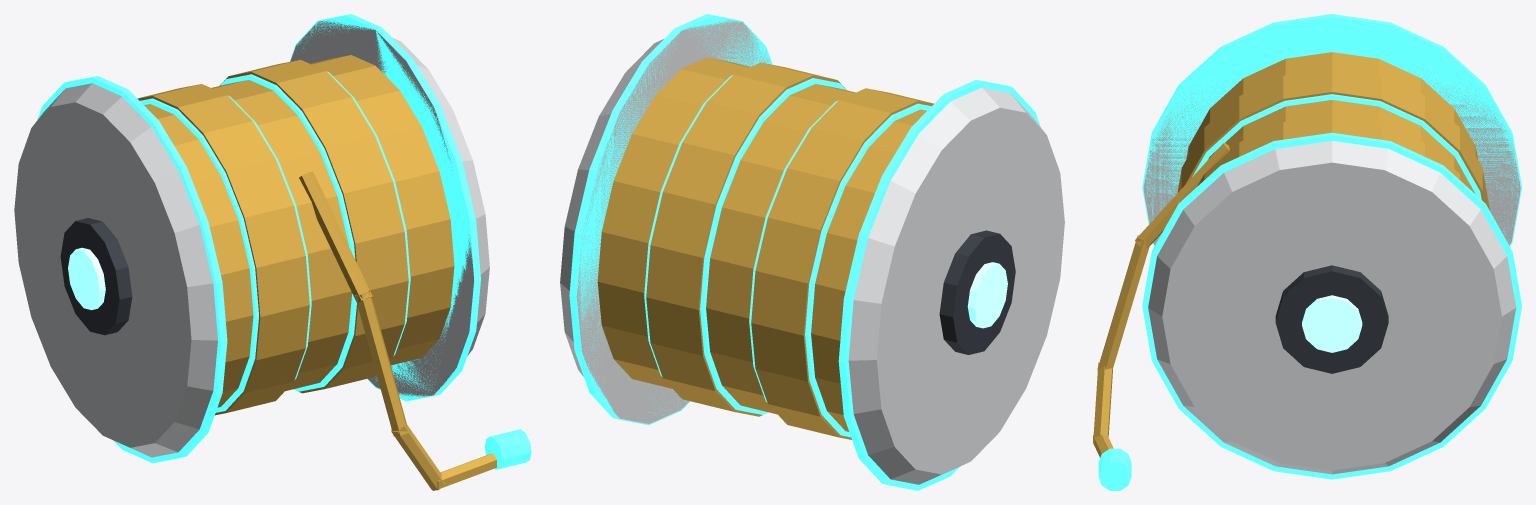
File: coil_space.glb
3 renders of one model, left to right at view 1: azimuth 30°, elevation 25°; view 2: azimuth 150°, elevation 25°; view 3: azimuth 270°, elevation 25°, orthographic. The views are drawn at different scales.
Visible parts, largest first — view 1: coil_space; view 2: coil_space; view 3: coil_space.
Part boxes in pixels (x1,y1,x2,y2): coil_space: [14, 14, 531, 490]; coil_space: [560, 14, 1064, 490]; coil_space: [1093, 14, 1521, 490].
Size of the model in its own units: 0.158 by 0.1608 by 0.1817.
